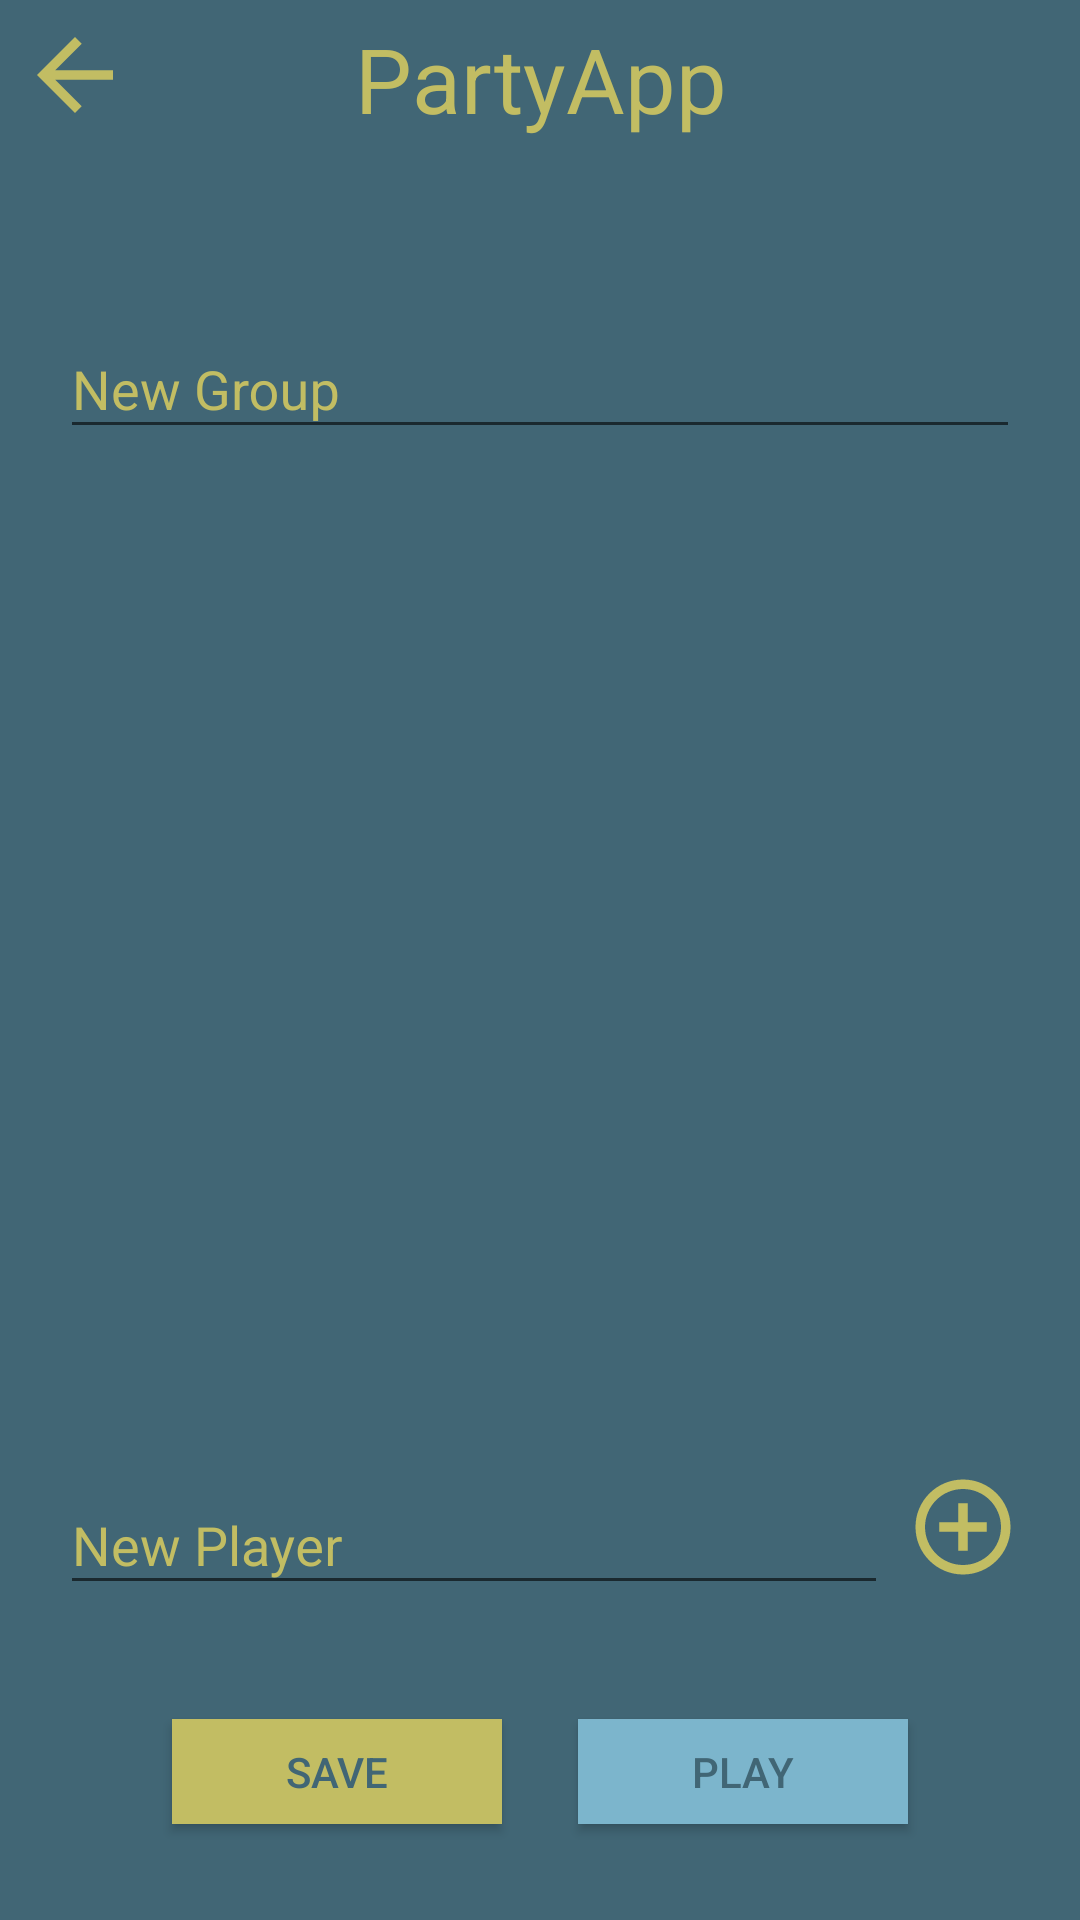

Named icons in this screenshot (1080*1920) and their bounding boxes, Rect(x1, y1, x2, y2):
add circle: Rect(915, 1479, 1011, 1575)
arrow: Rect(37, 37, 113, 113)
